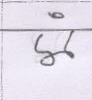anusvara: (49, 12, 63, 19)
